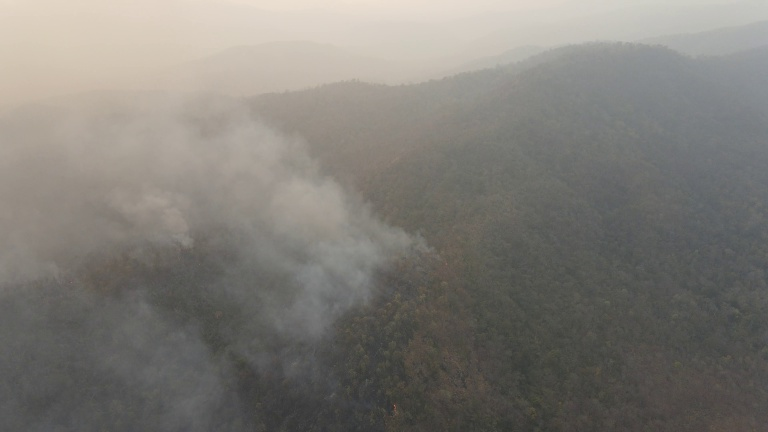smoke: (1, 87, 435, 427), (6, 1, 768, 89)
